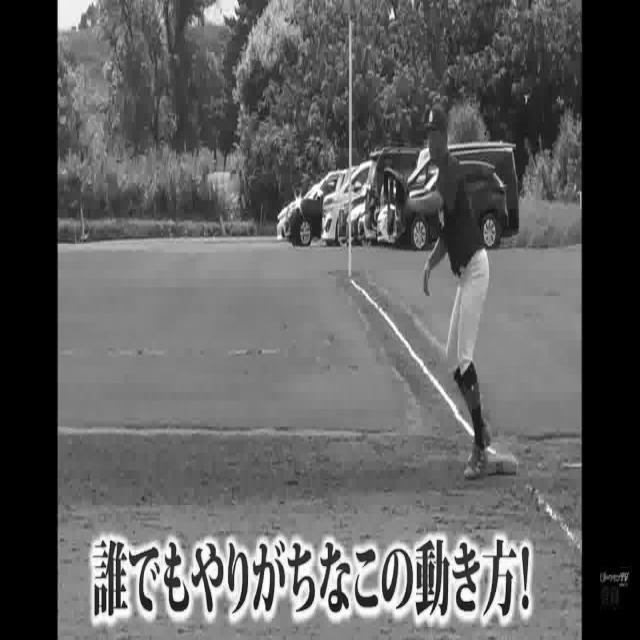base: (480, 454, 519, 475)
baseball_glove: (380, 165, 411, 212)
shoe: (464, 436, 488, 483)
